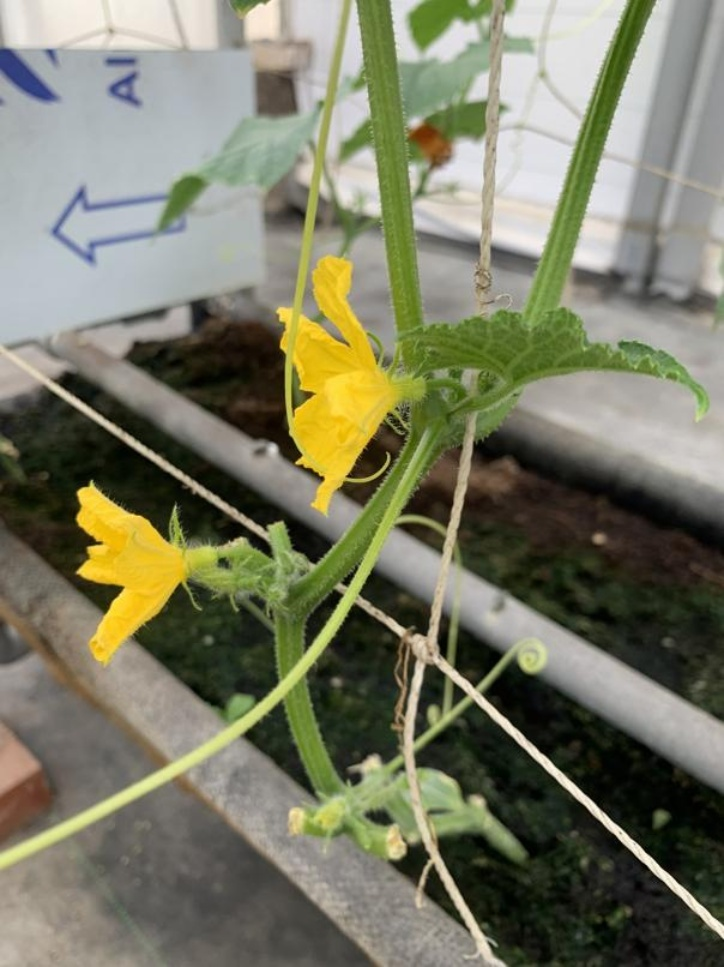flowering: (275, 245, 417, 513), (58, 475, 212, 668)
